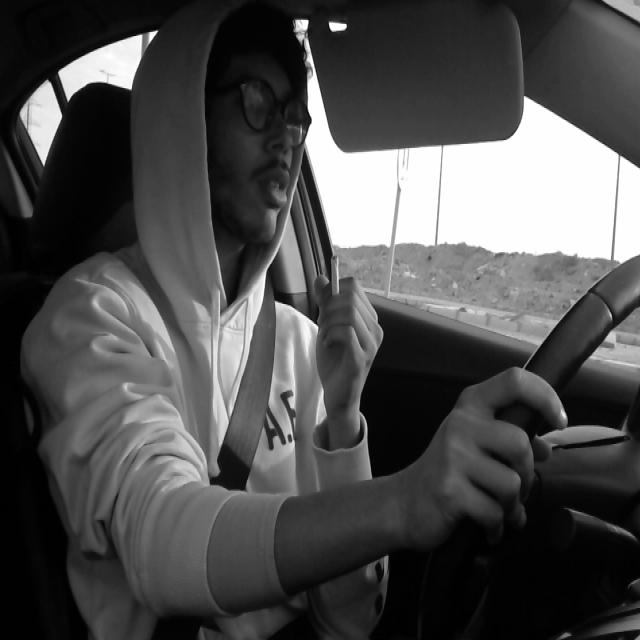smoking: (323, 252, 349, 320)
